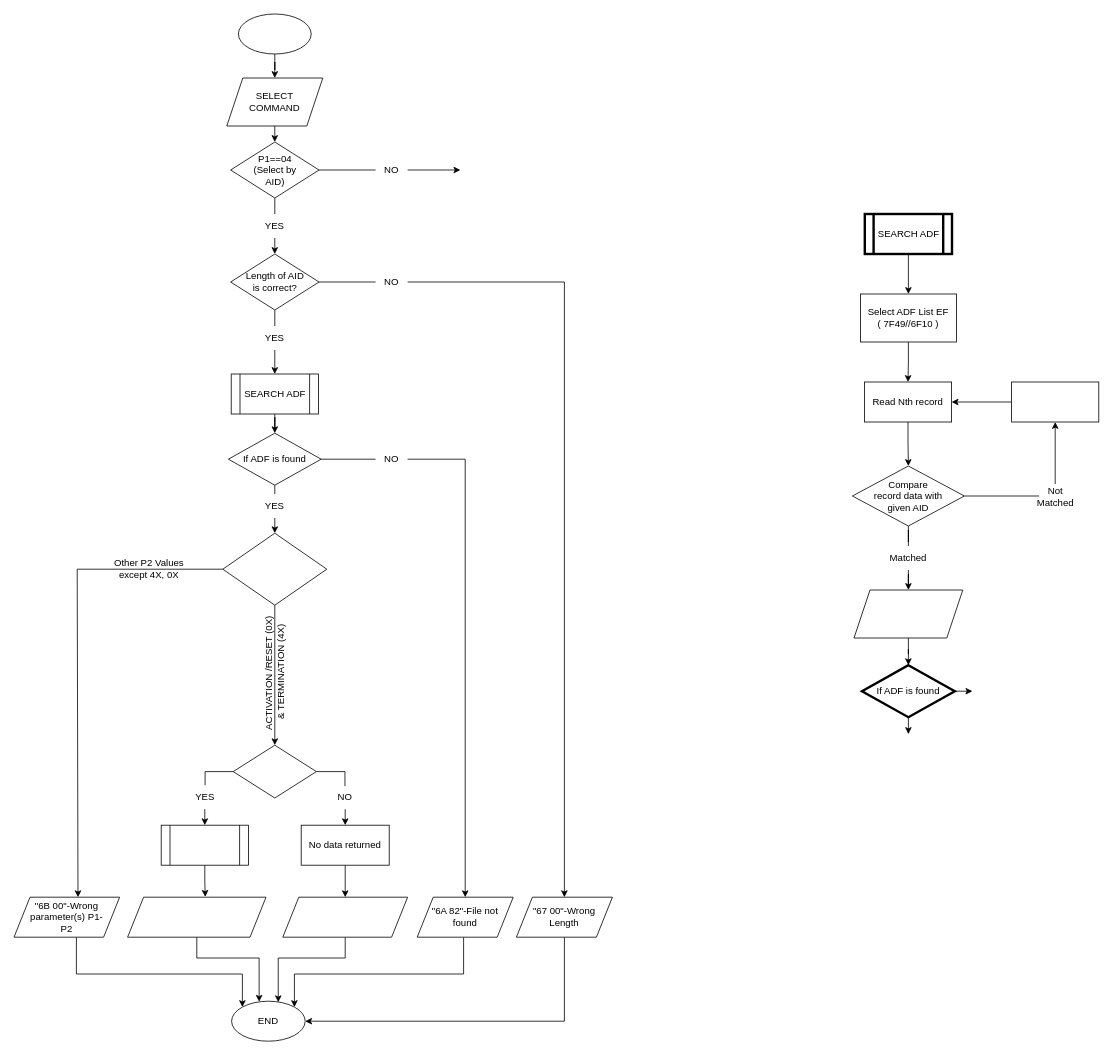
Some shapes in this 1113 by 1055 pixel diagram are drawn without their labels. Here are the shapes that lost their labels. From the top down, the centre of each, then its label:
pixel 274 33: START
pixel 1055 401: Increase Record Number
pixel 274 568: Checking Application session control in P2
pixel 908 613: Return Record Number & ADF address
pixel 274 771: Return FCP Template
pixel 204 844: Prepare FCP template
pixel 196 916: "61 XX" Command successfully executed, ‘XX’ bytes of data
pixel 345 916: "90 00"- Command successfully executed
